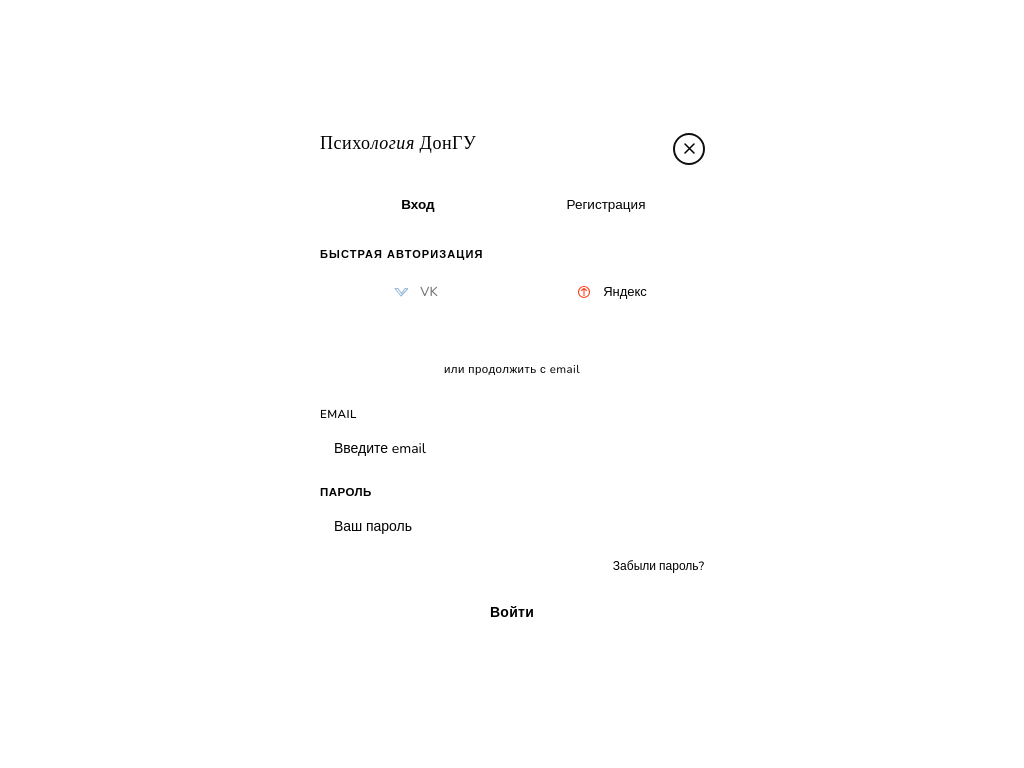
Test: основная форма: вкладки «Вход | Регистрация» есть
The width and height of the screenshot is (1024, 768).
Expected: the button with aria-label "Войти через Яндекс" is enabled, [516, 272, 704, 312]
Click the tab "Регистрация": x=606, y=204 [512, 186, 700, 222]
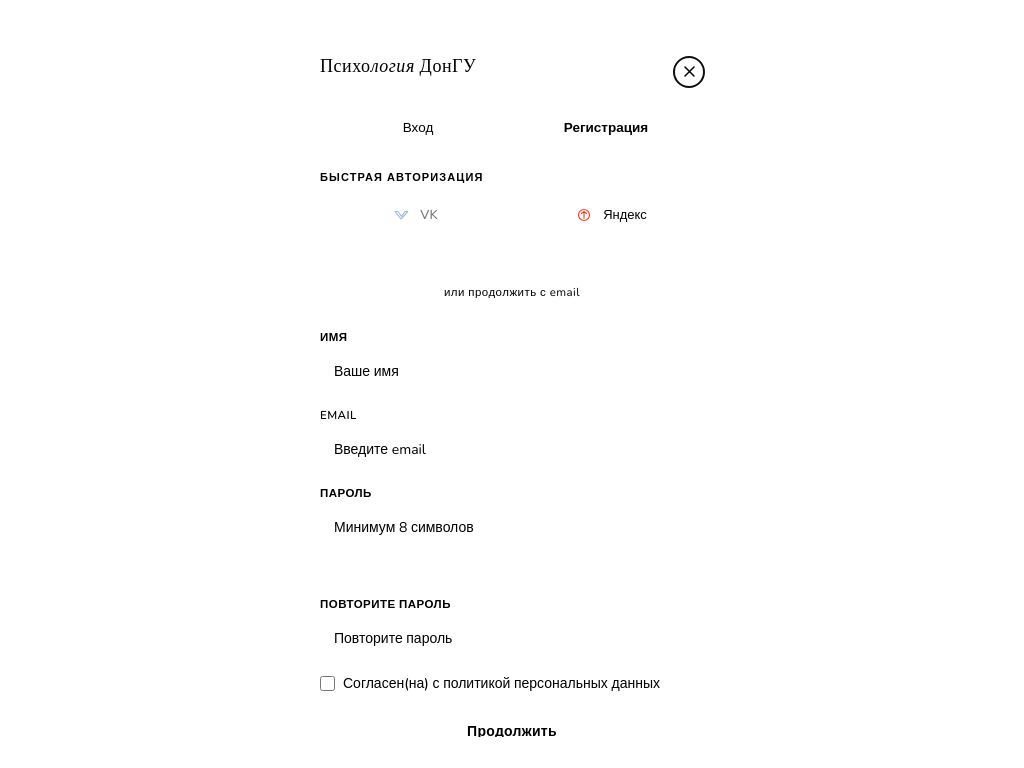
Expected: the element showing "Вход Регистрация" is shown, [320, 105, 704, 150]
Expected: the field labelled "Имя" is shown, [320, 350, 704, 394]
